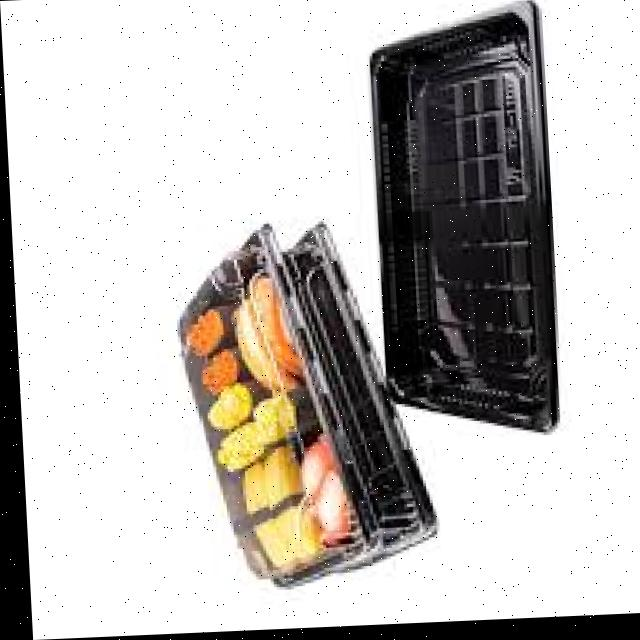disposable: (158, 218, 449, 594), (354, 0, 570, 451)
